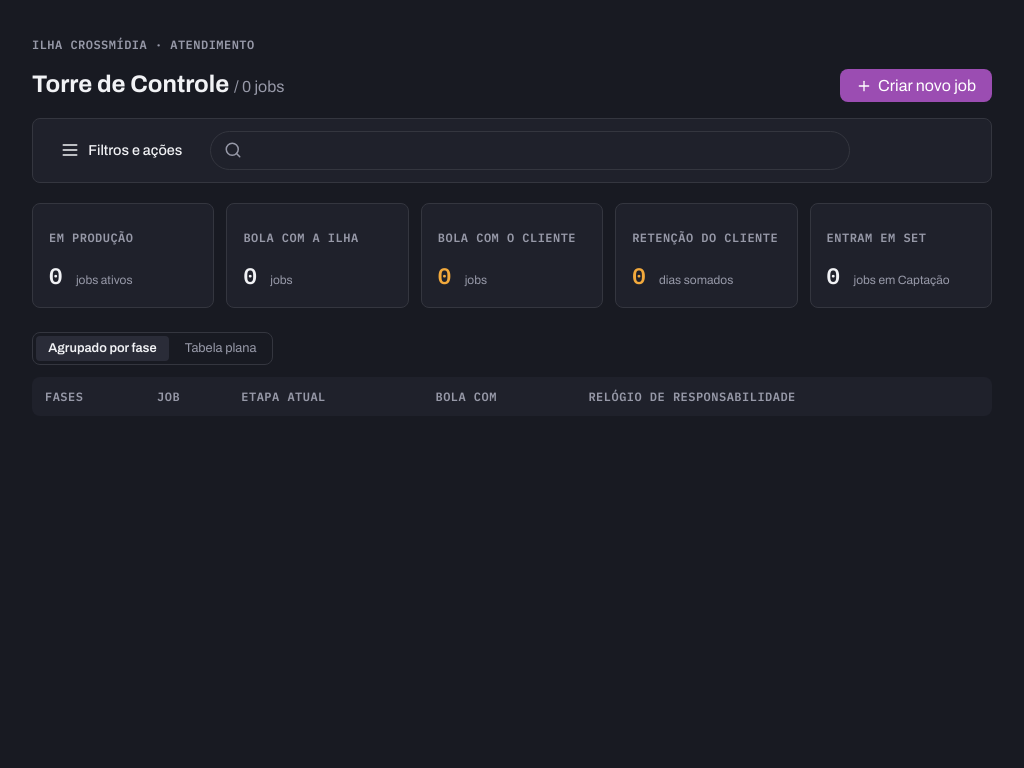
Board › shows a fase filter row per phase and no jobs when empty
Click the button "Filtros e ações" at (121, 150), box [49,132,194,168]
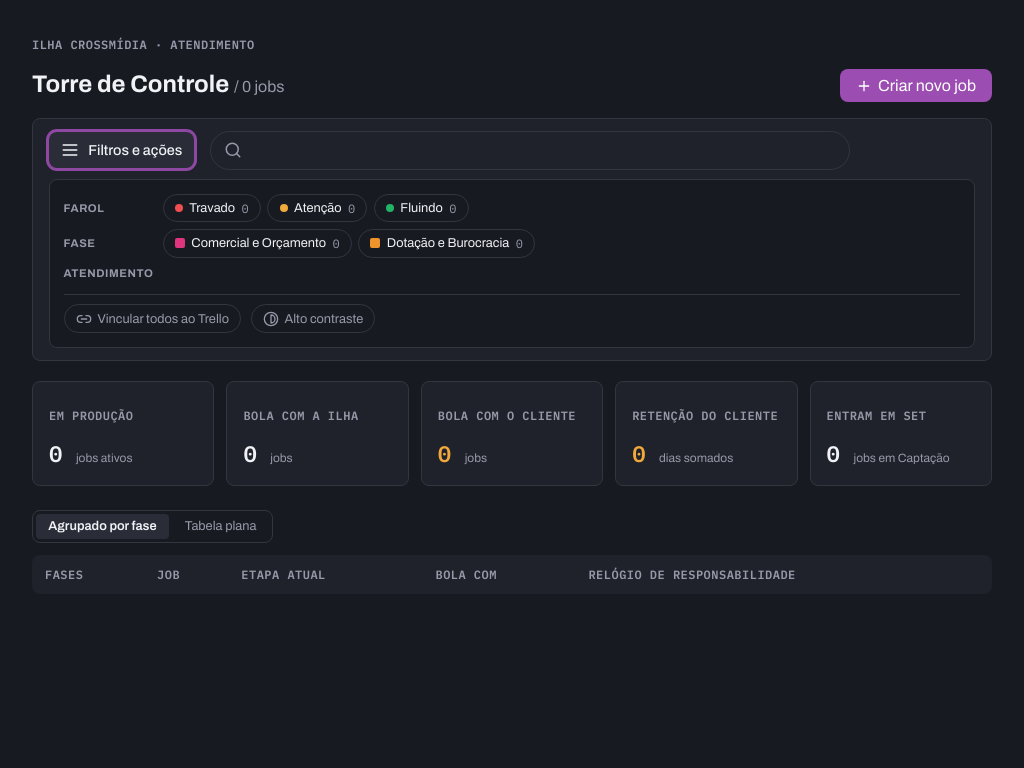
Check: the button "Comercial e Orçamento 0" is shown, box [163,229,352,258]
Check: the button "Dotação e Burocracia 0" is shown, box [358,229,535,258]
